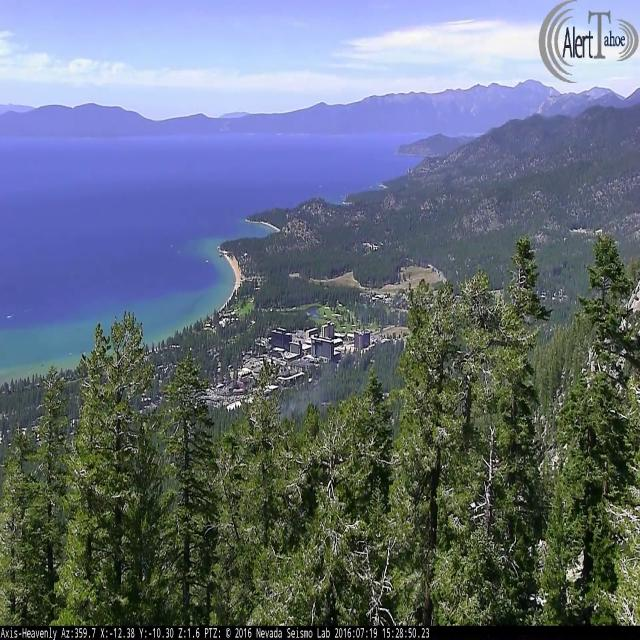smoke: (264, 352, 378, 433)
